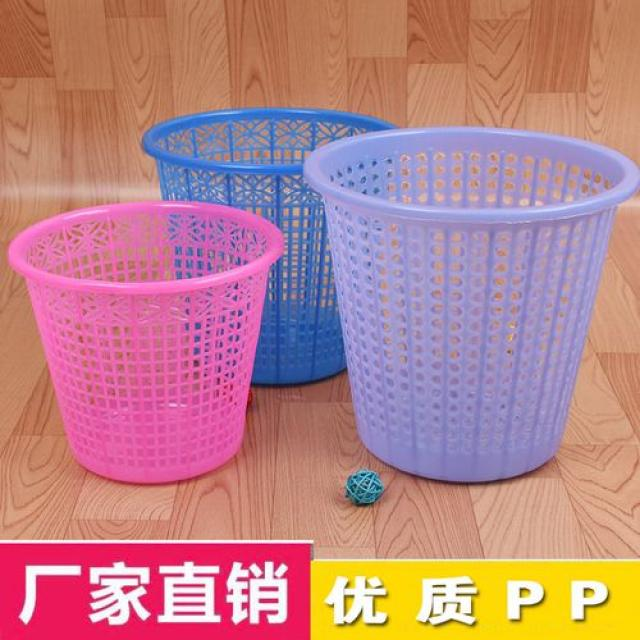dustbin: (4, 195, 289, 496), (140, 100, 410, 392)
